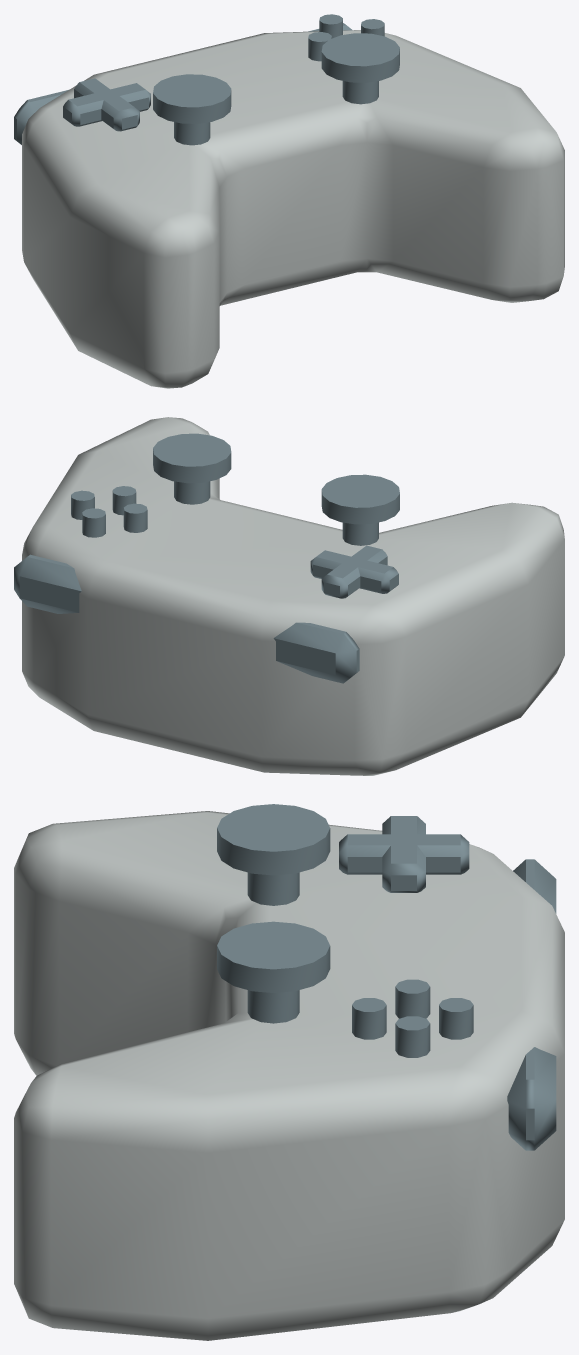
Rendered from game-controller.glb.
3 views of the same model, one above another, from view 1: azimuth 30°, elevation 25°; view 2: azimuth 150°, elevation 25°; view 3: azimuth 270°, elevation 25° (orthographic). The views are drawn at different scales.
Parts seen in each view (by area): view 1: ergonomic_controller_shell, thumbstick, thumbstick.001, dpad_horizontal, dpad_vertical, shoulder_button, thumbstick_stem.001, thumbstick_stem, action_button.002, action_button; view 2: ergonomic_controller_shell, shoulder_button, thumbstick, thumbstick.001, shoulder_button.001, dpad_horizontal, dpad_vertical, thumbstick_stem, thumbstick_stem.001, action_button.002, action_button, action_button.001 (+1 smaller); view 3: ergonomic_controller_shell, thumbstick, thumbstick.001, shoulder_button.001, dpad_vertical, dpad_horizontal, thumbstick_stem, thumbstick_stem.001, action_button.003, action_button.001, action_button, action_button.002 (+1 smaller).
Boxes of the visible parts, left/top/right/bottom form: ergonomic_controller_shell: left=22, top=30, right=564, bottom=388; thumbstick: left=153, top=74, right=231, bottom=123; thumbstick.001: left=321, top=33, right=399, bottom=82; dpad_horizontal: left=63, top=83, right=150, bottom=126; dpad_vertical: left=74, top=78, right=139, bottom=131; shoulder_button: left=14, top=90, right=68, bottom=144; thumbstick_stem.001: left=342, top=81, right=378, bottom=104; thumbstick_stem: left=174, top=122, right=210, bottom=145; action_button.002: left=308, top=32, right=331, bottom=61; action_button: left=319, top=14, right=342, bottom=38; ergonomic_controller_shell: left=22, top=417, right=564, bottom=775; shoulder_button: left=273, top=622, right=359, bottom=683; thumbstick: left=321, top=474, right=399, bottom=524; thumbstick.001: left=153, top=433, right=231, bottom=483; shoulder_button.001: left=14, top=554, right=81, bottom=613; dpad_horizontal: left=310, top=550, right=398, bottom=593; dpad_vertical: left=321, top=545, right=387, bottom=598; thumbstick_stem: left=342, top=522, right=378, bottom=545; thumbstick_stem.001: left=174, top=481, right=210, bottom=504; action_button.002: left=123, top=503, right=147, bottom=532; action_button: left=82, top=508, right=105, bottom=537; action_button.001: left=112, top=486, right=136, bottom=515; ergonomic_controller_shell: left=14, top=811, right=564, bottom=1340; thumbstick: left=217, top=804, right=330, bottom=875; thumbstick.001: left=217, top=921, right=330, bottom=992; shoulder_button.001: left=507, top=1047, right=556, bottom=1150; dpad_vertical: left=339, top=834, right=469, bottom=874; dpad_horizontal: left=382, top=816, right=425, bottom=892; thumbstick_stem: left=247, top=872, right=299, bottom=905; thumbstick_stem.001: left=247, top=990, right=299, bottom=1023; action_button.003: left=395, top=1016, right=430, bottom=1057; action_button.001: left=352, top=998, right=386, bottom=1039; action_button: left=439, top=998, right=473, bottom=1039; action_button.002: left=395, top=979, right=430, bottom=1018.
Size of the model in its own units: 0.174 by 0.079 by 0.1267.
